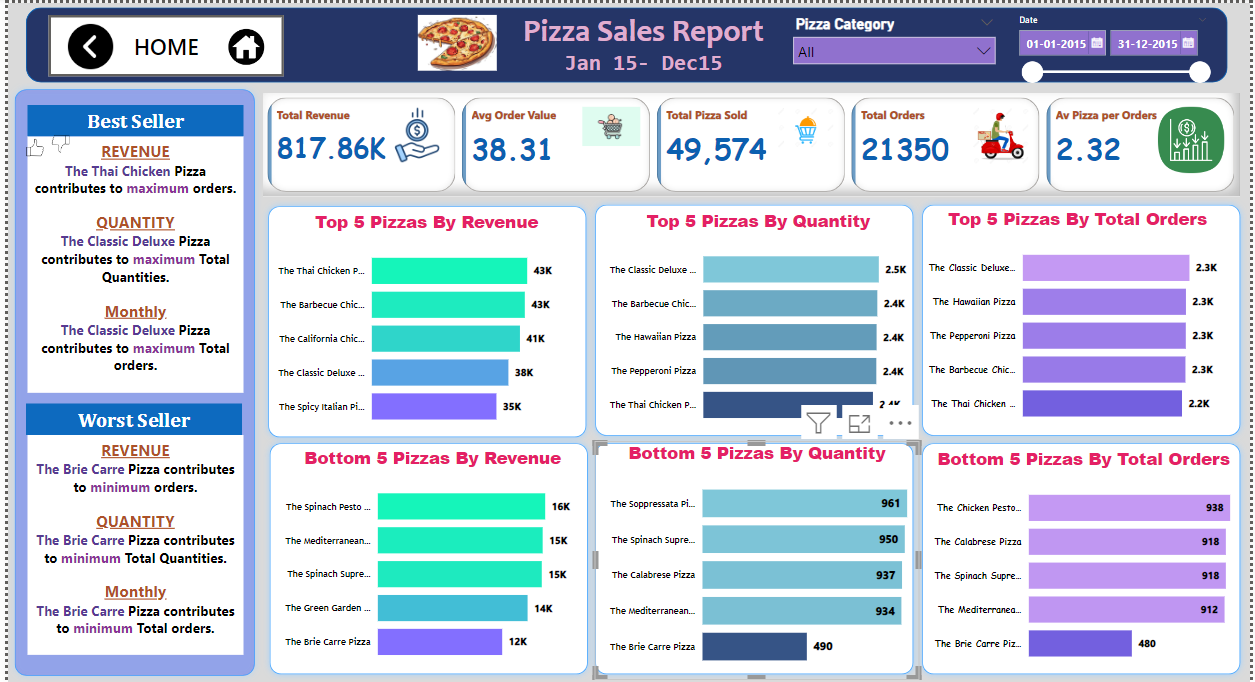

What the dashboard file says about the page in this screenshot:
{"tool":"powerbi","page":{"name":"Best/Worst Sellers","canvas":[1500,820],"ordinal":1},"visuals":[{"type":"shape","box":[21.7,5.4,1449.9,90.5],"z":0},{"type":"cardVisual","fields":{"Data":["Pizza Sales.Total Revenue","Pizza Sales.Avg Order Value","Pizza Sales.Total Pizza Sold","Pizza Sales.Total Orders","Pizza Sales.Av Pizza per Orders"]},"box":[307.7,108.6,1178.4,124.9],"z":1000},{"type":"textbox","box":[542.5,5,447.5,117.5],"z":2000},{"type":"shape","box":[700.5,523.1,400,295.1],"z":3000},{"type":"shape","box":[1095.1,523.1,400,295.1],"z":4000},{"type":"shape","box":[307.7,523.1,400,295.1],"z":5000},{"type":"shape","box":[0,95.9,305.9,724.1],"z":6000},{"type":"textbox","box":[23.5,123.1,260.7,38],"z":7000},{"type":"textbox","box":[23.5,161.1,260.7,309.5],"z":8000},{"type":"textbox","box":[21.7,483.3,260.7,38],"z":9000},{"type":"textbox","box":[23.5,521.3,260.7,265],"z":10000},{"type":"slicer","fields":{"Values":["Pizza Sales.pizza_category"]},"box":[937.7,9.1,264.3,67],"z":11000},{"type":"slicer","fields":{"Values":["Pizza Sales.order_date"]},"box":[1207.4,9.1,251.6,99.6],"z":12000},{"type":"shape","box":[305.9,237.1,400,295.1],"z":13000},{"type":"shape","box":[1095.1,235.3,400,295.1],"z":14000},{"type":"shape","box":[700.5,235.3,400,295.1],"z":15000},{"type":"barChart","title":"Top 5 Pizzas By Revenue","fields":{"Category":["Pizza Sales.pizza_name"],"Y":["Pizza Sales.Total Revenue"]},"box":[307.7,249.8,395,275],"z":16000},{"type":"barChart","title":"Bottom 5 Pizzas By Revenue","fields":{"Category":["Pizza Sales.pizza_name"],"Y":["Pizza Sales.Total Revenue"]},"box":[315,534,395,275],"z":17000},{"type":"barChart","title":"Top 5 Pizzas By Quantity","fields":{"Category":["Pizza Sales.pizza_name"],"Y":["Pizza Sales.Total Pizza Sold"]},"box":[707.8,248,395,275],"z":18000},{"type":"barChart","title":"Bottom 5 Pizzas By Quantity","fields":{"Category":["Pizza Sales.pizza_name"],"Y":["Pizza Sales.Total Pizza Sold"]},"box":[708.7,529.3,392,287.9],"z":19000},{"type":"barChart","title":"Top 5 Pizzas By Total Orders","fields":{"Category":["Pizza Sales.pizza_name"],"Y":["Pizza Sales.Total Orders"]},"box":[1094,245.8,395,275],"z":20000},{"type":"barChart","title":"Bottom 5 Pizzas By Total Orders","fields":{"Category":["Pizza Sales.pizza_name"],"Y":["Pizza Sales.Total Orders"]},"box":[1100.6,535.9,395,275],"z":21000},{"type":"image","box":[477.9,9.1,128.5,77.8],"z":22000},{"type":"image","box":[0,153.9,95.9,36.2],"z":23000},{"type":"actionButton","box":[48.9,14.5,284.2,74.2],"z":24000},{"type":"image","box":[242.6,19.9,90.5,65.2],"z":25000},{"type":"image","box":[54.3,19.9,90.5,65.2],"z":27000}]}

Visuals, with their boxes in screenshot pixels (x1, y1, x2, y2), scaled from the page's 1500x820 canvas onto the 1255x682 screenshot:
shape: <region>18, 4, 1231, 80</region>
cardVisual - Pizza Sales.Total Revenue x Pizza Sales.Avg Order Value: <region>257, 90, 1243, 194</region>
textbox: <region>454, 4, 828, 102</region>
shape: <region>586, 435, 921, 681</region>
shape: <region>916, 435, 1251, 681</region>
shape: <region>257, 435, 592, 681</region>
shape: <region>0, 80, 256, 681</region>
textbox: <region>20, 102, 238, 134</region>
textbox: <region>20, 134, 238, 391</region>
textbox: <region>18, 402, 236, 434</region>
textbox: <region>20, 434, 238, 654</region>
slicer - Pizza Sales.pizza_category: <region>785, 8, 1006, 63</region>
slicer - Pizza Sales.order_date: <region>1010, 8, 1221, 90</region>
shape: <region>256, 197, 591, 443</region>
shape: <region>916, 196, 1251, 441</region>
shape: <region>586, 196, 921, 441</region>
"Top 5 Pizzas By Revenue" barChart: <region>257, 208, 588, 436</region>
"Bottom 5 Pizzas By Revenue" barChart: <region>264, 444, 594, 673</region>
"Top 5 Pizzas By Quantity" barChart: <region>592, 206, 923, 435</region>
"Bottom 5 Pizzas By Quantity" barChart: <region>593, 440, 921, 680</region>
"Top 5 Pizzas By Total Orders" barChart: <region>915, 204, 1246, 433</region>
"Bottom 5 Pizzas By Total Orders" barChart: <region>921, 446, 1251, 674</region>
image: <region>400, 8, 507, 72</region>
image: <region>0, 128, 80, 158</region>
actionButton: <region>41, 12, 279, 74</region>
image: <region>203, 17, 279, 71</region>
image: <region>45, 17, 121, 71</region>
